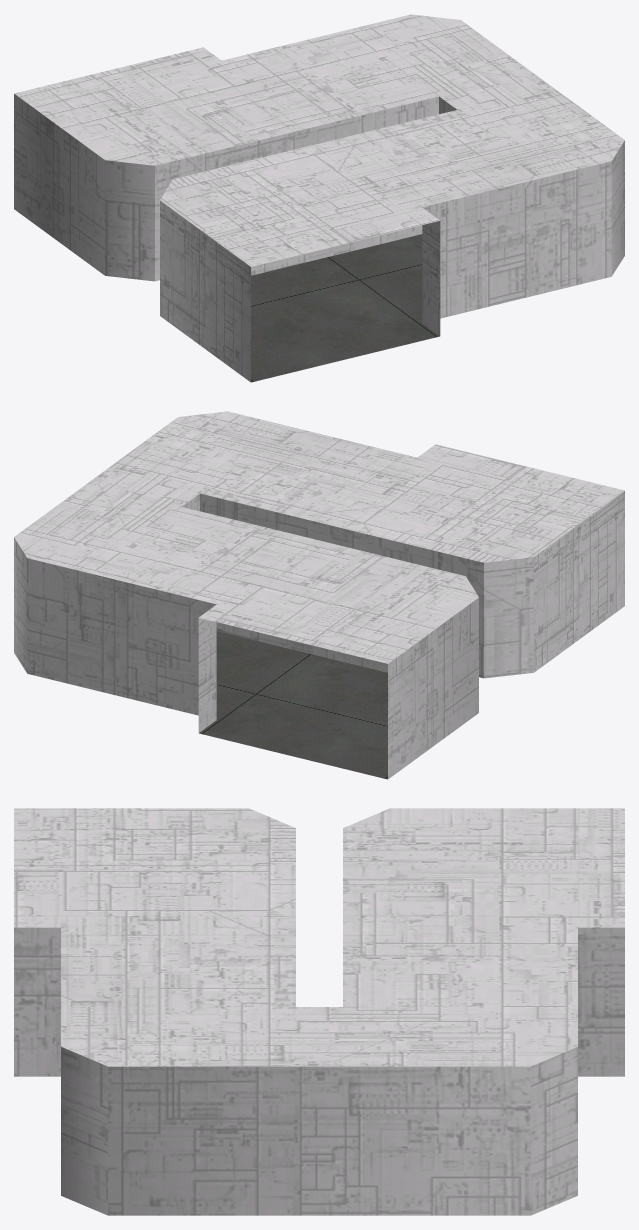
The model's file is thm_spc_star_destroyer_s01_r50_hallway15_mesh_r50.fbx.
3 renders of one model, top to bottom at view 1: azimuth 30°, elevation 25°; view 2: azimuth 150°, elevation 25°; view 3: azimuth 270°, elevation 25°, orthographic. The views are drawn at different scales.
Parts seen in each view (by area): view 1: mesh_node; view 2: mesh_node; view 3: mesh_node.
Boxes of the visible parts, x1,y1,x2,y2 form: mesh_node: (14,14,624,382); mesh_node: (14,411,624,779); mesh_node: (14,808,624,1215).
Size of the model in its own units: 13 by 3.5 by 13.
2 materials, 2 textured.
